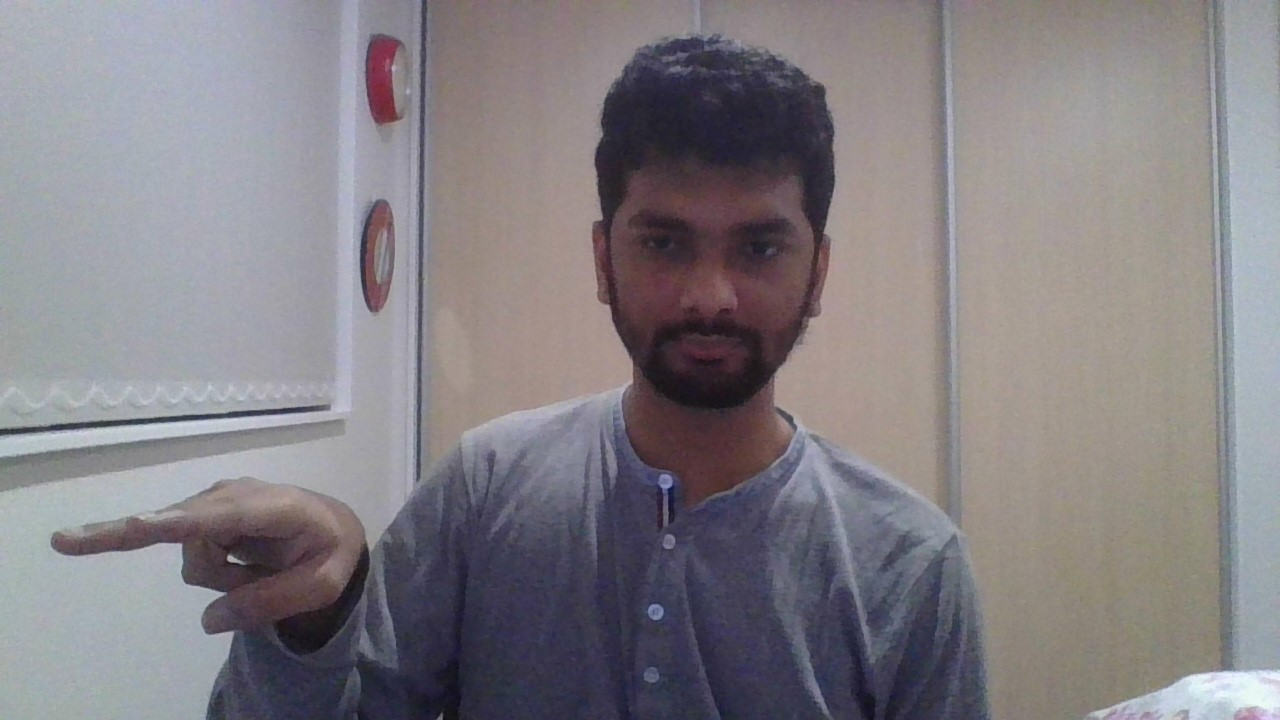look_around: (52, 478, 366, 636)
